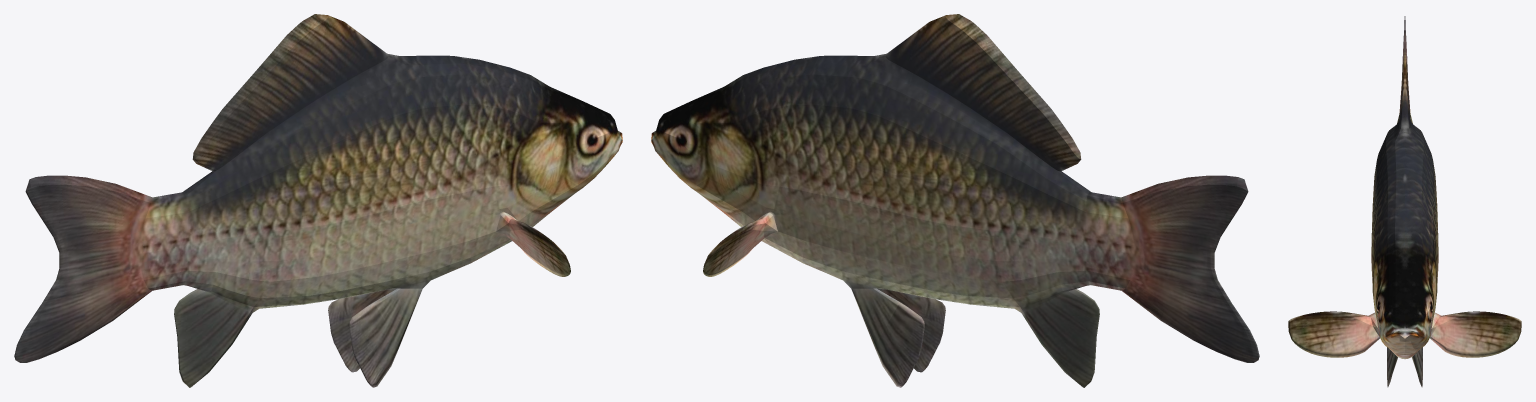
The model's file is reineta.glb.
3 views of the same model, side by side, from view 1: azimuth 30°, elevation 25°; view 2: azimuth 150°, elevation 25°; view 3: azimuth 270°, elevation 25° (orthographic). The views are drawn at different scales.
Parts seen in each view (by area): view 1: pez; view 2: pez; view 3: pez.
Boxes of the visible parts, left/top/right/bottom form: pez: left=14, top=14, right=622, bottom=387; pez: left=651, top=14, right=1259, bottom=387; pez: left=1288, top=16, right=1521, bottom=387.
Bounding box in the file's own units: 1 × 0.597 × 0.3994.
1 material, 1 textured.
